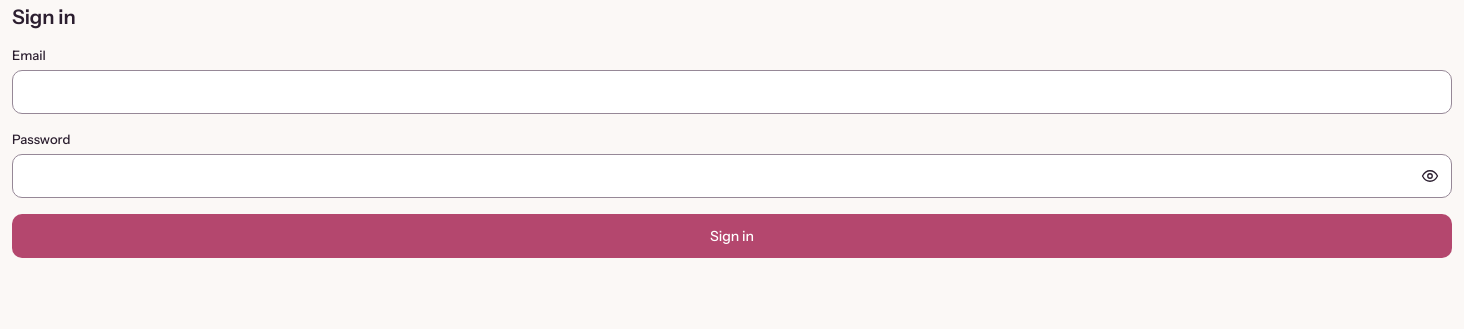
it: error messages › SOMETHING_NEW
Type "ana@example.com" into the field labelled "Email" at (732, 92), box [12,70,1452,114]
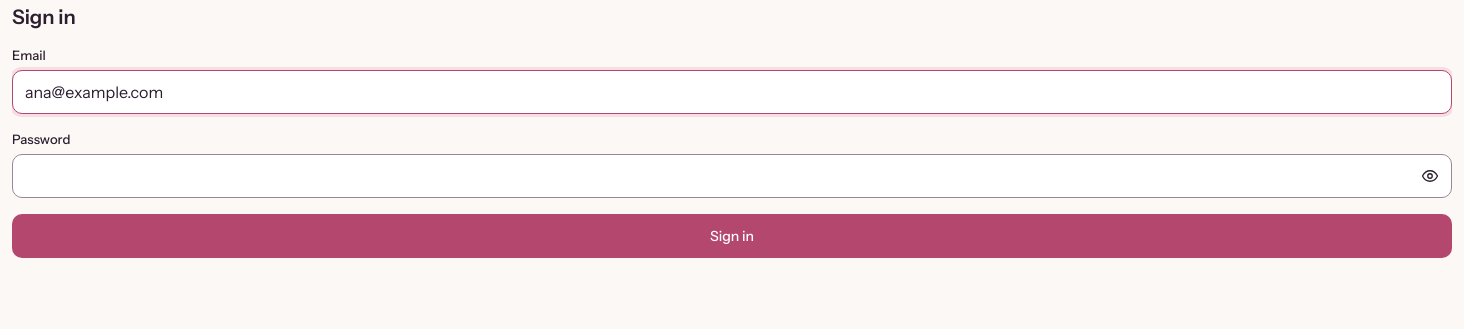
Type "pas-de-deux" into the password field labelled "Password" at (732, 176), box [12,154,1452,198]
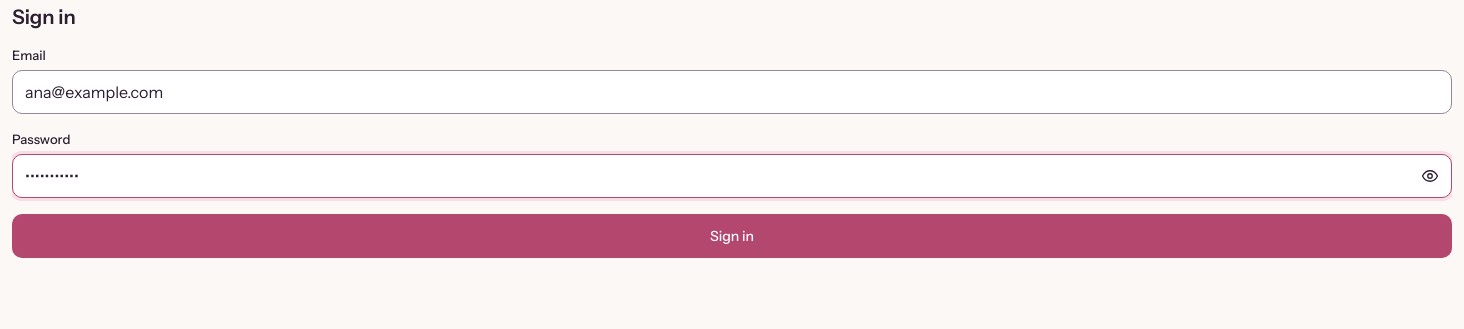
Click the button "Sign in" at (732, 236), box [12,214,1452,258]
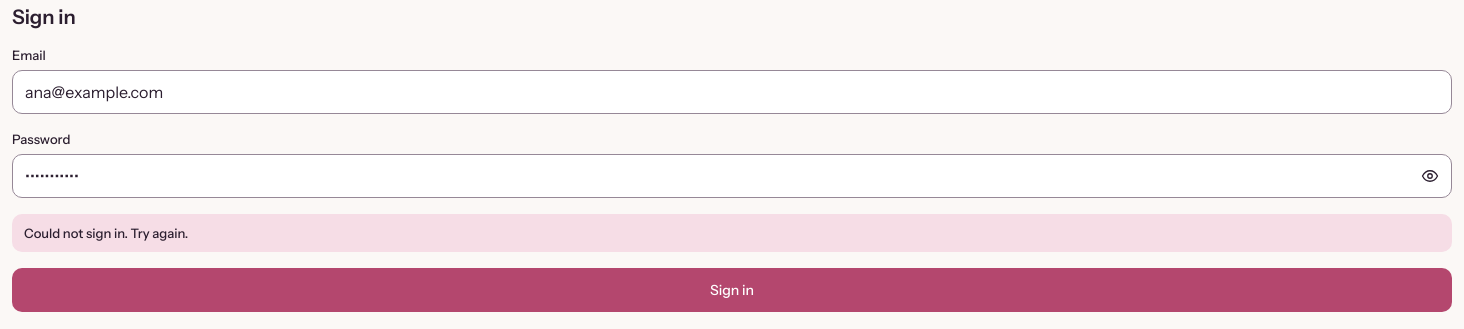
Expected: the message reads "Could not sign in. Try again.", [24,225,188,241]
